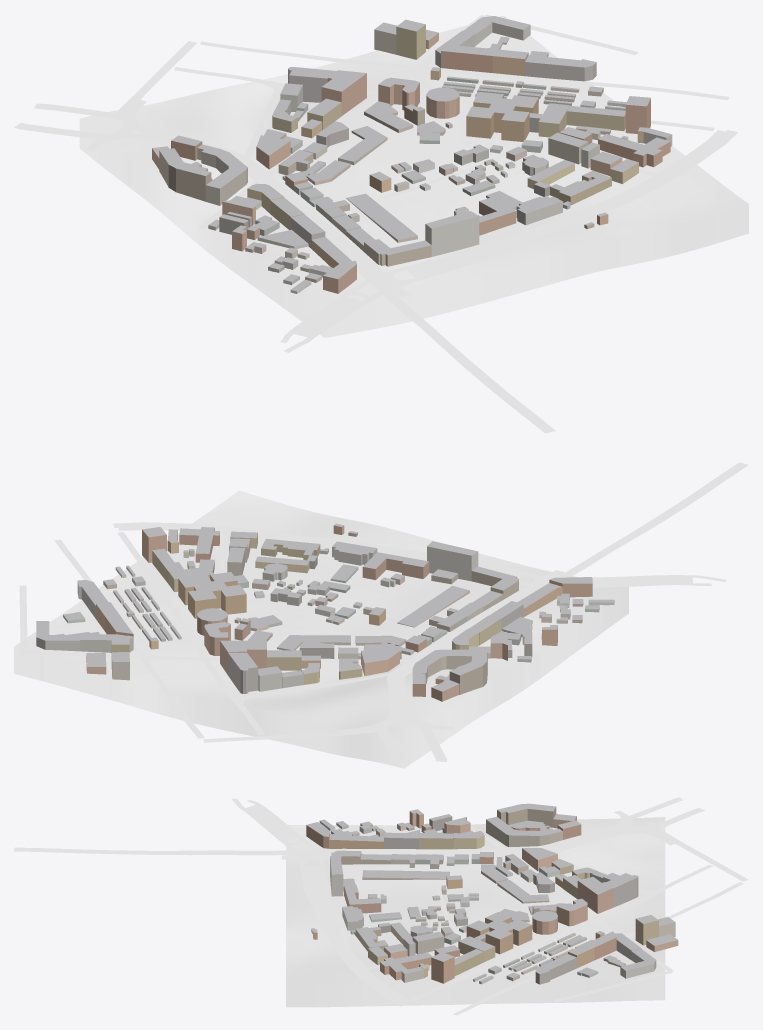
3 views of the same model, one above another, from view 1: azimuth 30°, elevation 25°; view 2: azimuth 150°, elevation 25°; view 3: azimuth 270°, elevation 25° (orthographic). The views are drawn at different scales.
Parts seen in each view (by area): view 1: t1_0_0; view 2: t1_0_0; view 3: t1_0_0.
Part boxes in pixels (left/top/right/bottom): t1_0_0: left=14, top=14, right=748, bottom=433; t1_0_0: left=14, top=462, right=748, bottom=768; t1_0_0: left=14, top=797, right=748, bottom=1015.
Size of the model in its own units: 710 by 79.01 by 992.
